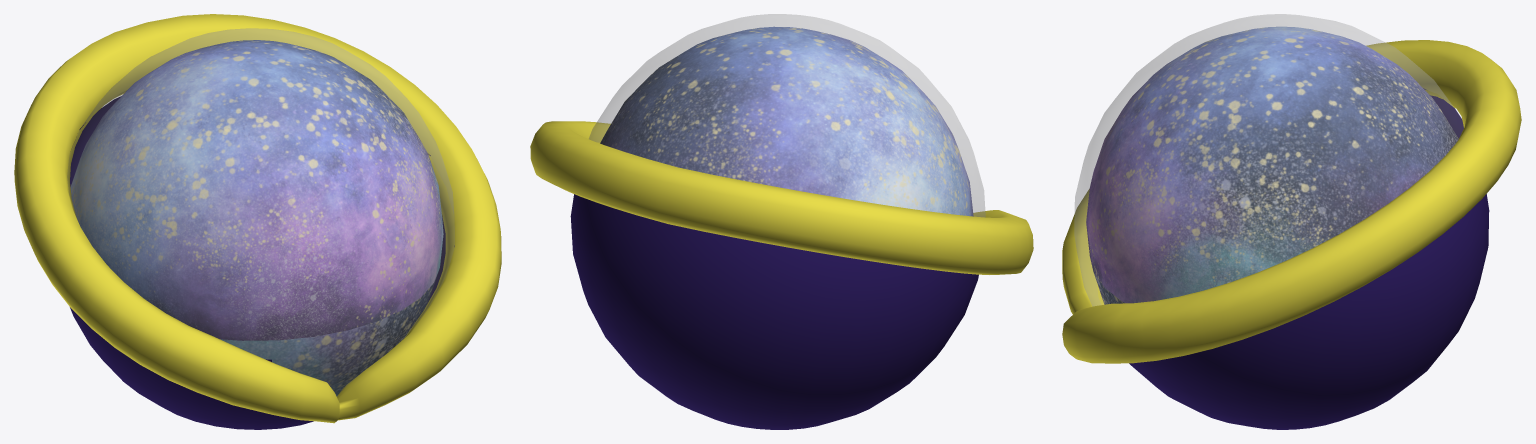
Rendered from tomoOrb.fbx.
The picture shows the model from 3 angles, left to right: view 1: azimuth 30°, elevation 25°; view 2: azimuth 150°, elevation 25°; view 3: azimuth 270°, elevation 25°; orthographic projection. The views are drawn at different scales.
Parts seen in each view (by area): view 1: tiny orb 5; view 2: tiny orb 5; view 3: tiny orb 5.
Part boxes in pixels (left/top/right/bottom): tiny orb 5: left=14, top=14, right=501, bottom=429; tiny orb 5: left=530, top=14, right=1033, bottom=429; tiny orb 5: left=1062, top=14, right=1521, bottom=429.
Bounding box in the file's own units: 41.15 × 33.58 × 37.14.
